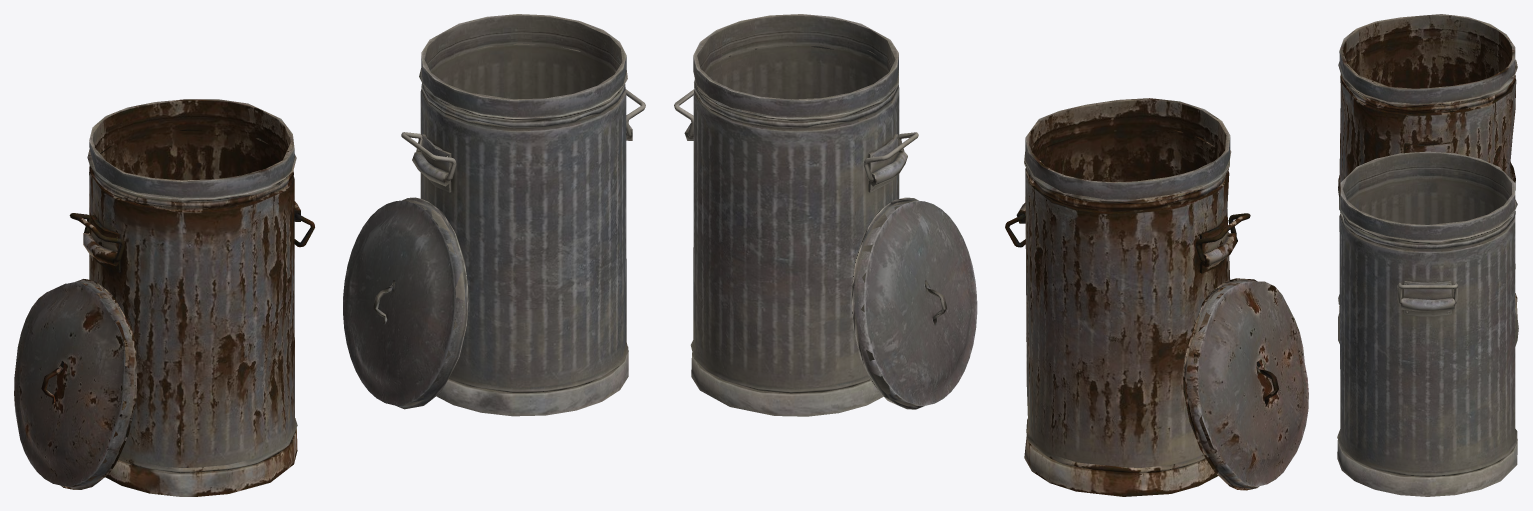
The model's file is metal_trash_can.glb.
3 views of the same model, side by side, from view 1: azimuth 30°, elevation 25°; view 2: azimuth 150°, elevation 25°; view 3: azimuth 270°, elevation 25° (orthographic). The views are drawn at different scales.
Parts seen in each view (by area): view 1: metal_trash_can, metal_trash_can_rust, metal_trash_can_lid, metal_trash_can_rust_lid; view 2: metal_trash_can, metal_trash_can_rust, metal_trash_can_lid, metal_trash_can_rust_lid; view 3: metal_trash_can, metal_trash_can_rust, metal_trash_can_handle_right.
Boxes of the visible parts, x1,y1,x2,y2 form: metal_trash_can: [412, 14, 632, 416]; metal_trash_can_rust: [83, 99, 300, 496]; metal_trash_can_lid: [343, 197, 468, 409]; metal_trash_can_rust_lid: [14, 279, 137, 489]; metal_trash_can: [684, 14, 907, 416]; metal_trash_can_rust: [1016, 98, 1237, 496]; metal_trash_can_lid: [851, 197, 977, 409]; metal_trash_can_rust_lid: [1183, 278, 1308, 490]; metal_trash_can: [1337, 151, 1517, 496]; metal_trash_can_rust: [1338, 14, 1517, 317]; metal_trash_can_handle_right: [1397, 283, 1458, 304].
Bounding box in the file's own units: 1.78 × 0.9062 × 0.5533.
3 materials, 3 textured.
